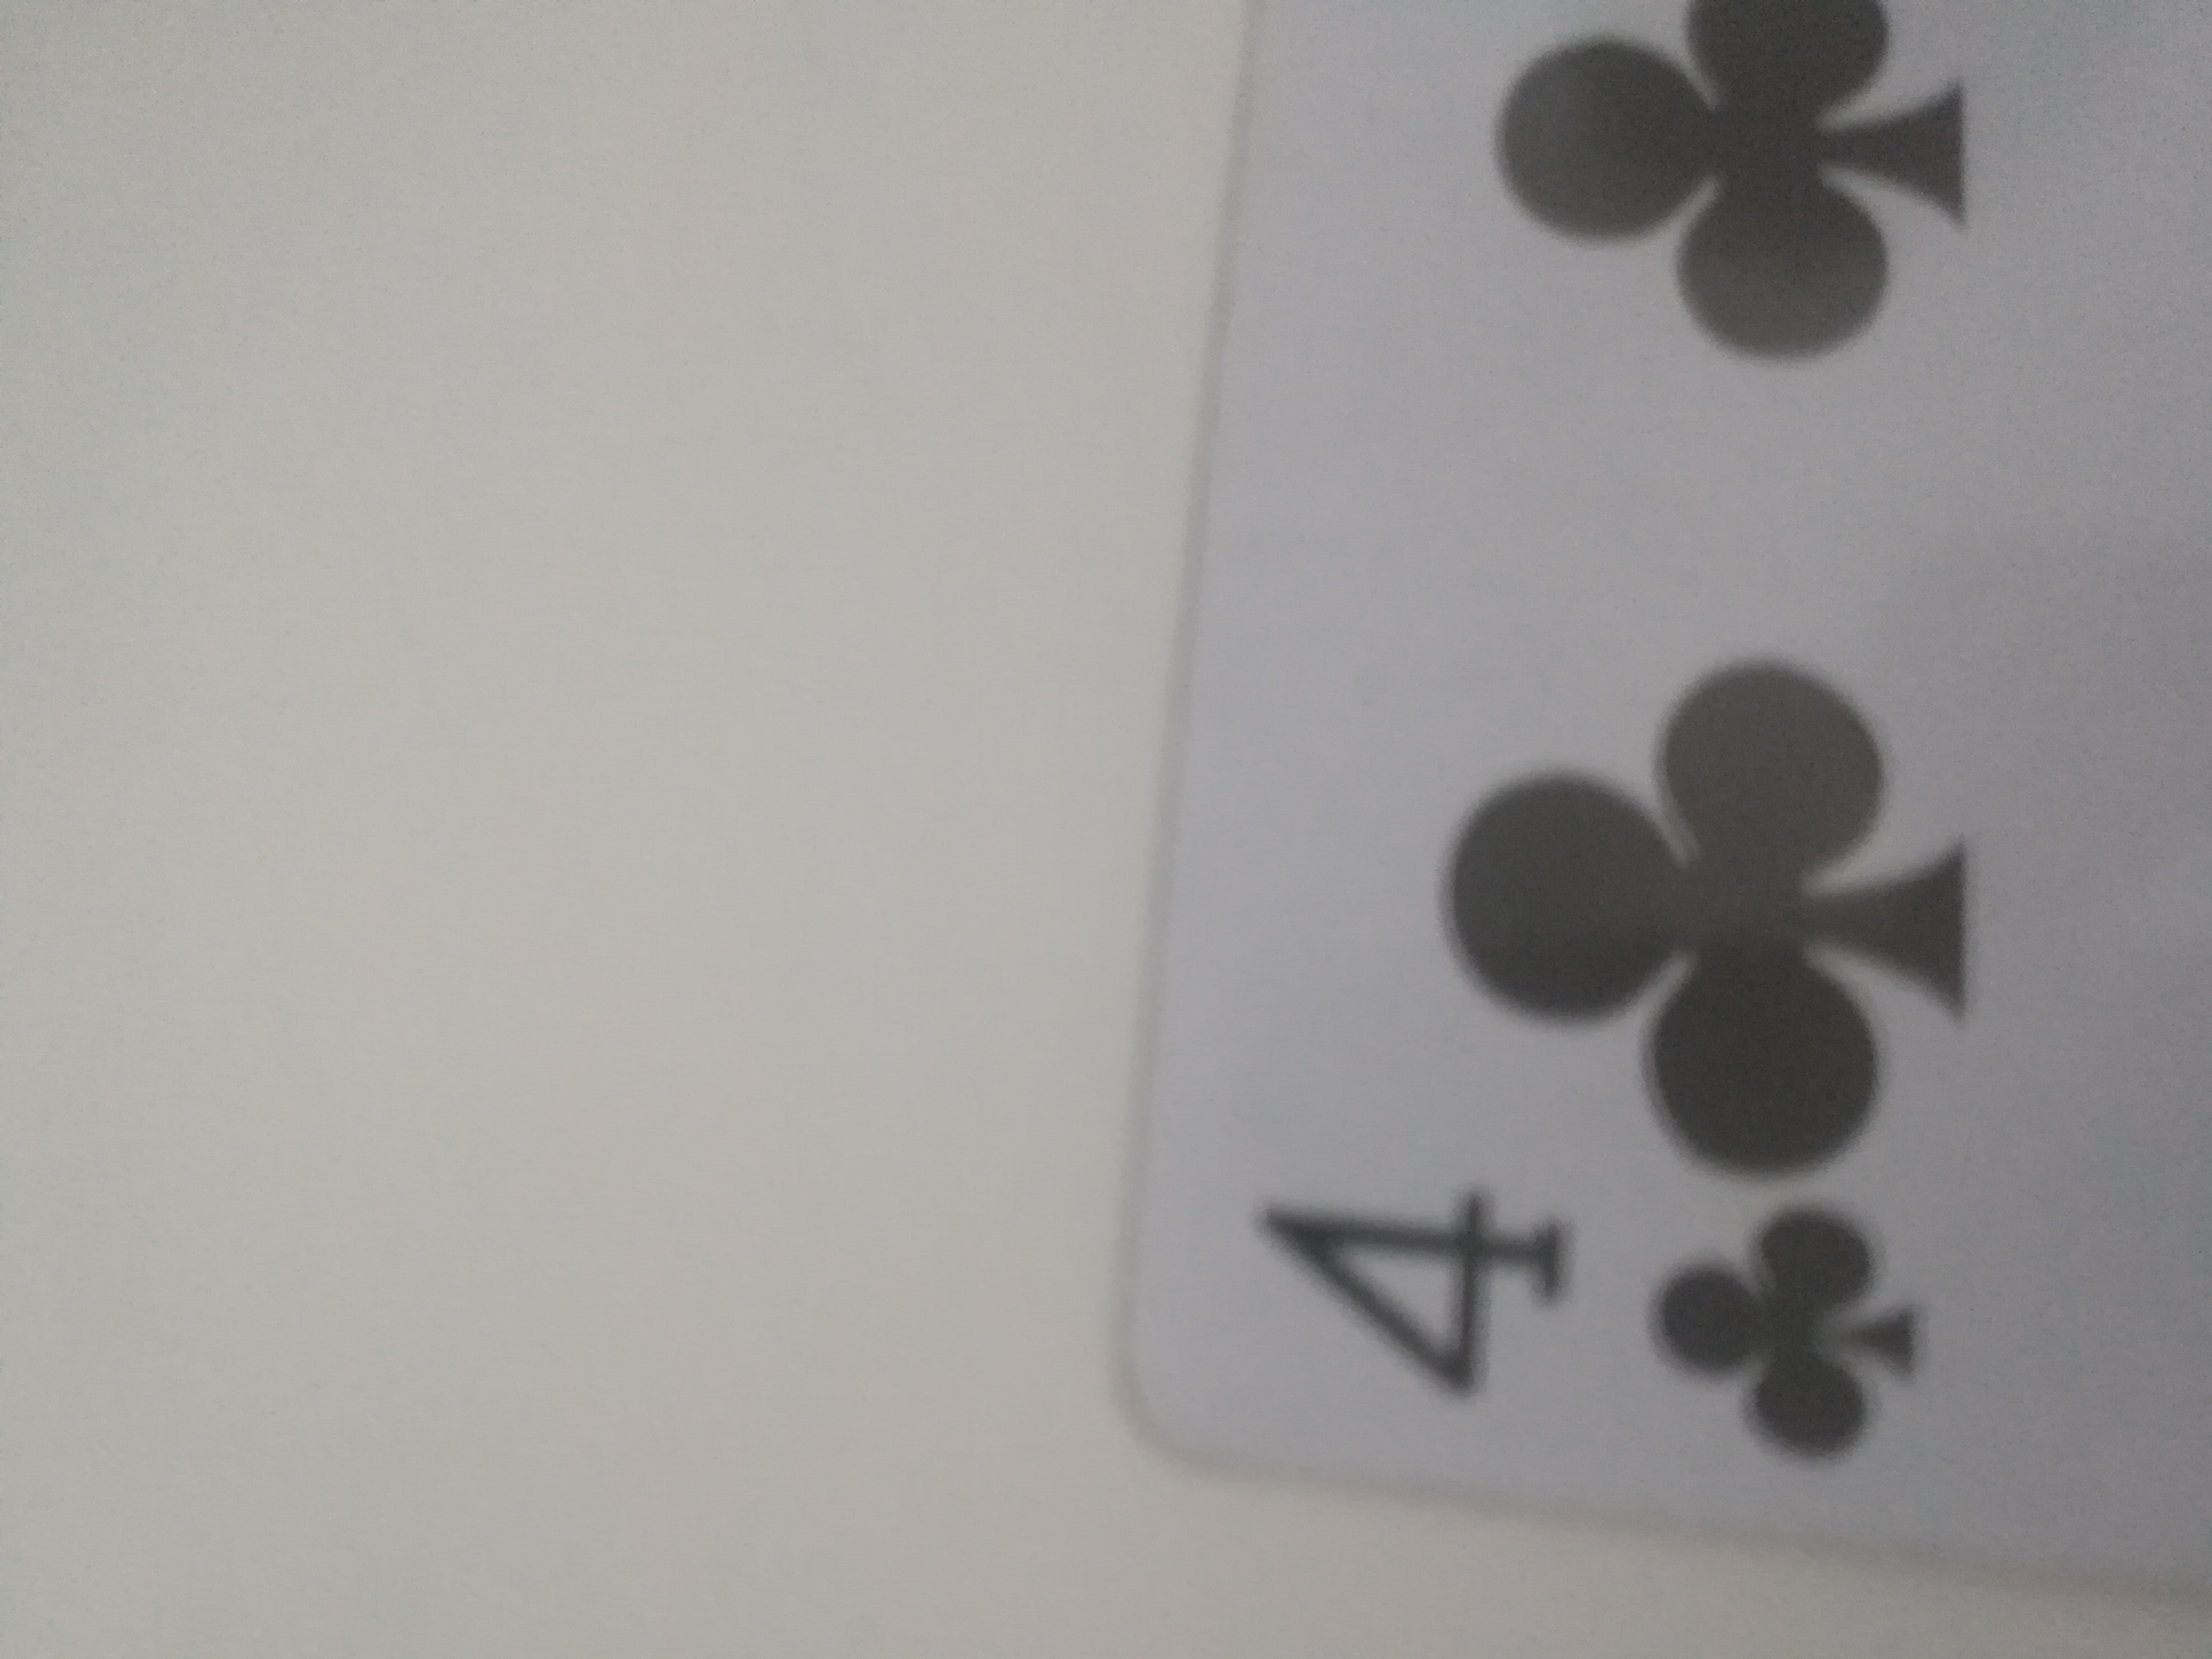4C: (1127, 2, 2212, 1596)
